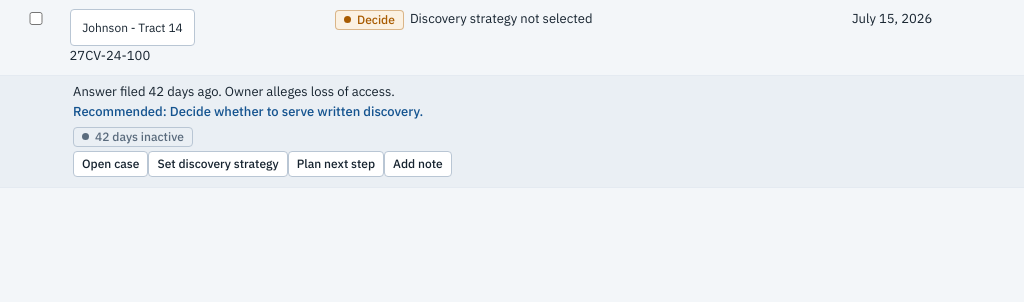
Test: ActionQueueRow › closes the quick form after a successful save
Click the button "Plan next step" at (336, 164), box top-left (288, 150), bottom-right (384, 176)
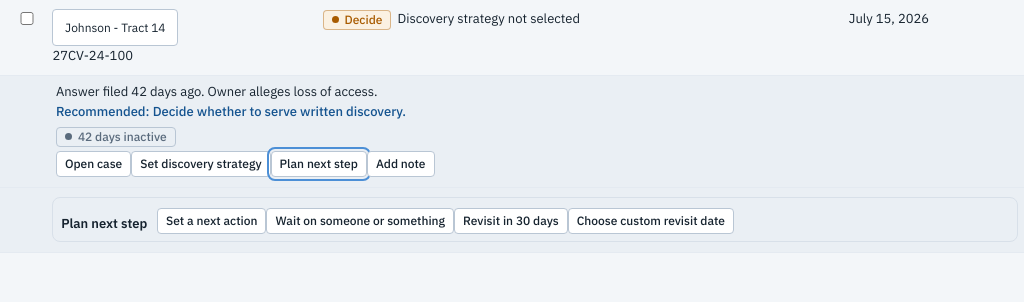
Click the button "Set a next action" at (212, 221), box top-left (157, 208), bottom-right (266, 234)
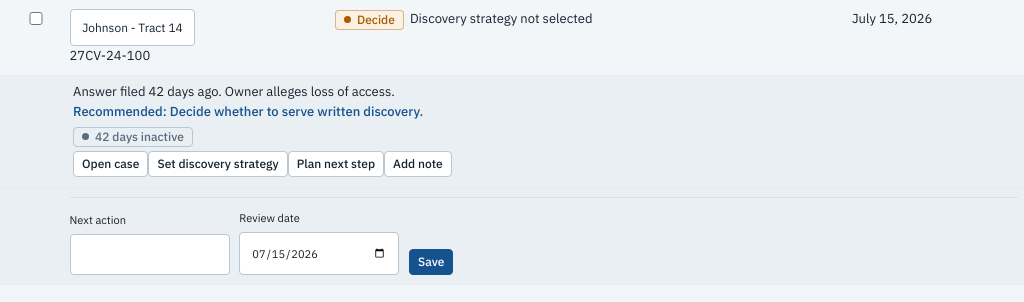
Now the field labelled "Next action" is shown
Type "x" into the field labelled "Next action" at (150, 255), box top-left (70, 234), bottom-right (230, 275)
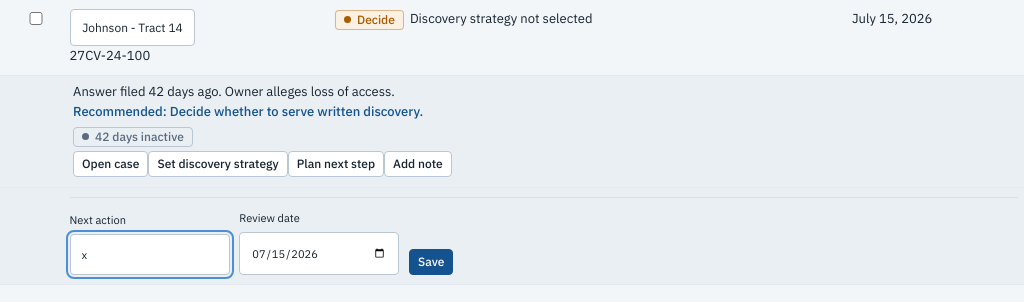
Type "2026-08-01" into the date field labelled "Review date" at (319, 254), box top-left (239, 232), bottom-right (399, 275)
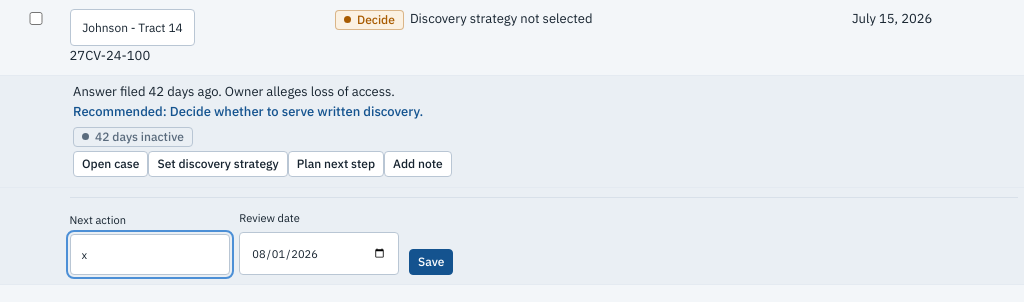
Click the button "Save" at (431, 262), box top-left (409, 249), bottom-right (454, 275)
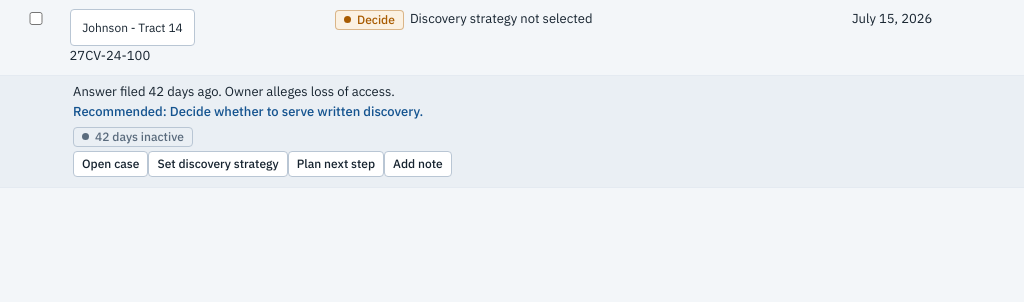
Now the label labelled "Next action" is gone
